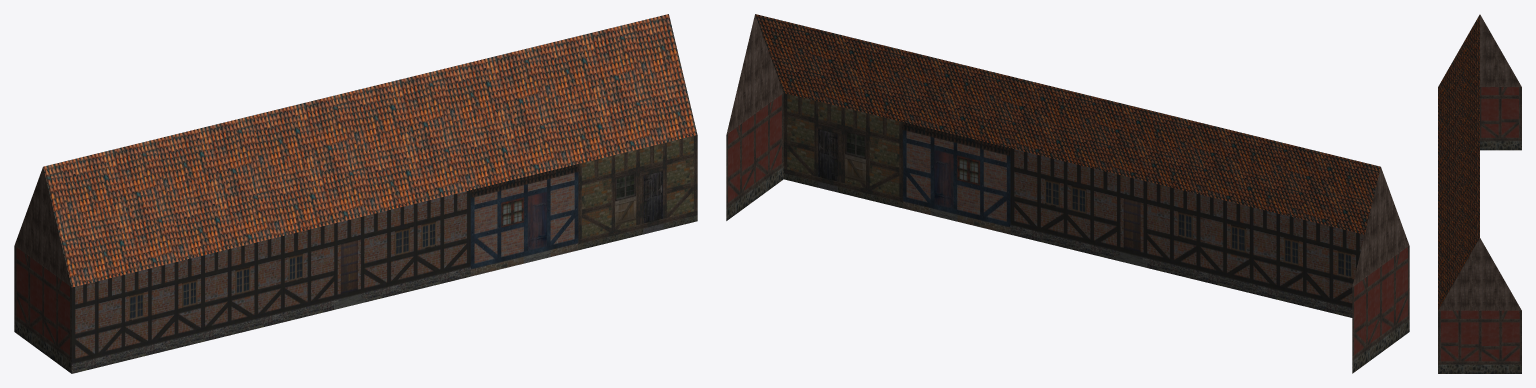
File: kuliss_2.FBX
3 views of the same model, side by side, from view 1: azimuth 30°, elevation 25°; view 2: azimuth 150°, elevation 25°; view 3: azimuth 270°, elevation 25° (orthographic). The views are drawn at different scales.
Parts seen in each view (by area): view 1: Box001; view 2: Box001; view 3: Box001.
Boxes of the visible parts, x1,y1,x2,y2 form: Box001: [14, 14, 697, 373]; Box001: [726, 14, 1409, 373]; Box001: [1438, 14, 1521, 373].
Bounding box in the file's own units: 203 × 57.64 × 32.14.
4 materials, 4 textured.
